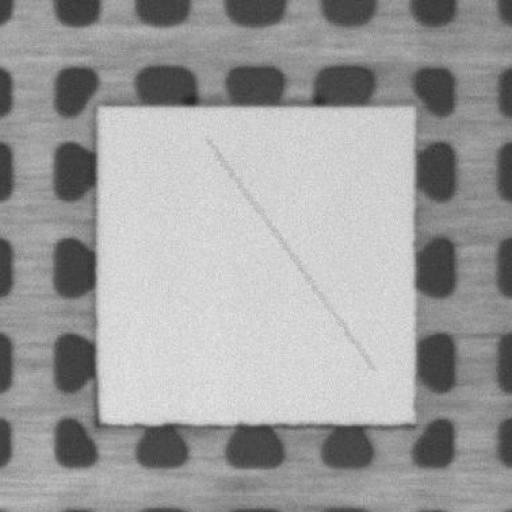DIE_CRACK: (205, 138, 373, 370)
